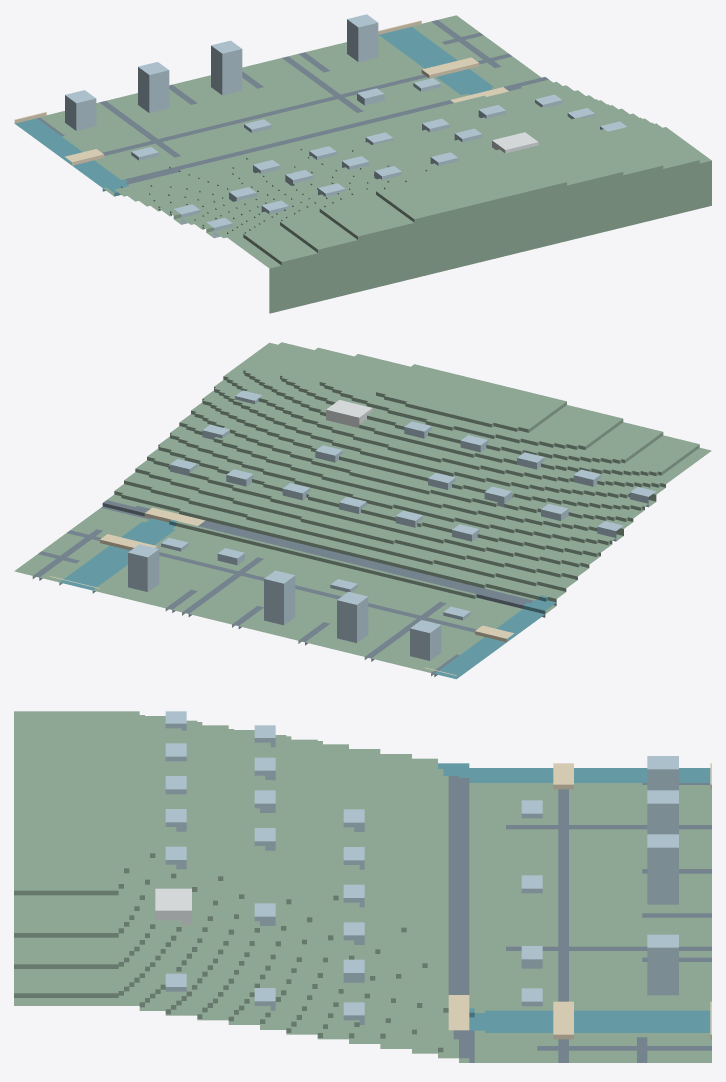
The model's file is sector-n.glb.
3 views of the same model, one above another, from view 1: azimuth 30°, elevation 25°; view 2: azimuth 150°, elevation 25°; view 3: azimuth 270°, elevation 25° (orthographic). The views are drawn at different scales.
Visible parts, largest first — view 1: material_1, material_4, material_2, material_3, material_6, material_5; view 2: material_1, material_4, material_2, material_3, material_6, material_5; view 3: material_1, material_4, material_2, material_3, material_6, material_5.
Part boxes in pixels (bbox=[...]): material_1: bbox=[40, 15, 711, 313]; material_4: bbox=[65, 14, 627, 238]; material_2: bbox=[37, 20, 548, 184]; material_3: bbox=[14, 27, 493, 196]; material_6: bbox=[14, 20, 508, 165]; material_5: bbox=[492, 132, 538, 153]; material_1: bbox=[14, 342, 711, 676]; material_4: bbox=[128, 390, 655, 660]; material_2: bbox=[33, 500, 533, 676]; material_3: bbox=[59, 518, 556, 679]; material_6: bbox=[49, 507, 513, 675]; material_5: bbox=[326, 400, 372, 427]; material_1: bbox=[14, 711, 711, 1062]; material_4: bbox=[165, 711, 678, 1024]; material_2: bbox=[448, 776, 711, 1062]; material_3: bbox=[438, 763, 710, 1032]; material_6: bbox=[448, 763, 711, 1039]; material_5: bbox=[155, 888, 191, 924].
Size of the model in its own units: 1333 by 170 by 1333.
